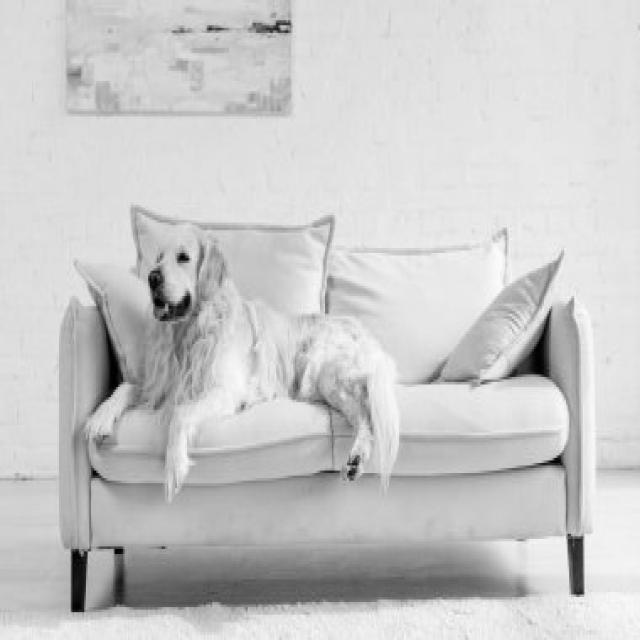Animal: (86, 223, 399, 502)
